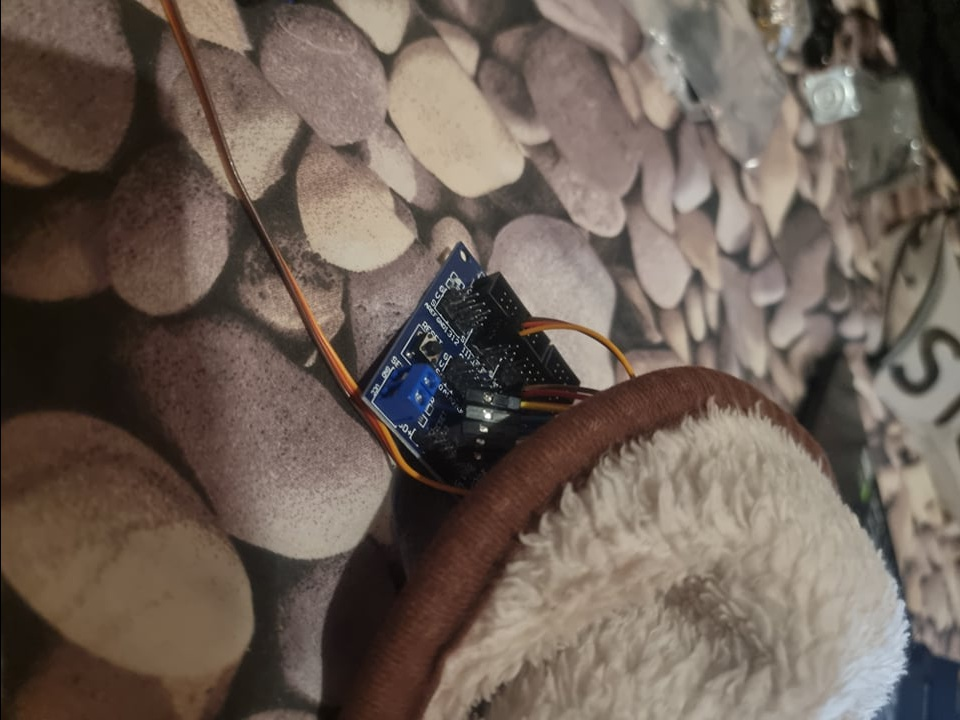5V EXPANSION: (354, 239, 581, 499)
